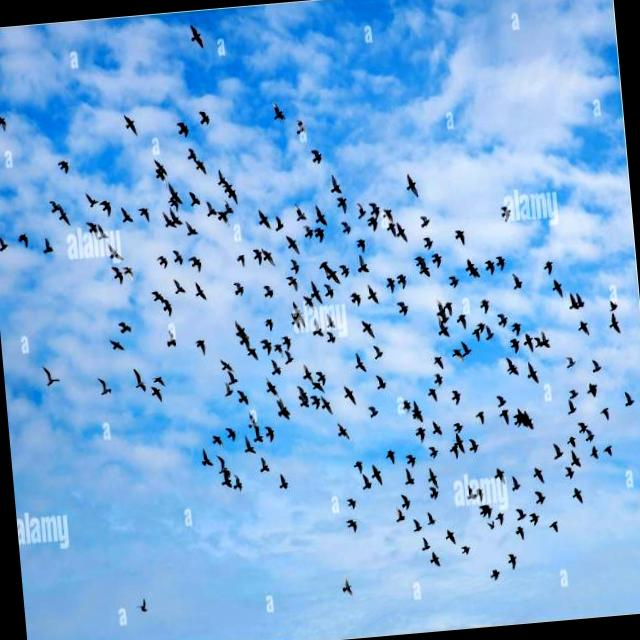bird: (185, 15, 209, 50), (402, 167, 422, 198), (462, 254, 484, 280), (42, 362, 61, 390), (128, 366, 147, 394), (192, 333, 210, 359), (122, 110, 138, 138), (94, 374, 112, 398), (338, 574, 356, 598), (451, 227, 469, 250), (164, 329, 181, 353), (106, 243, 125, 264), (38, 236, 56, 258), (312, 203, 328, 226), (342, 383, 358, 406), (526, 360, 540, 386), (174, 120, 192, 140), (255, 206, 270, 230), (262, 378, 280, 398), (360, 320, 378, 340), (14, 230, 31, 251), (121, 262, 137, 284), (308, 145, 324, 167), (220, 381, 236, 403), (272, 99, 286, 124), (353, 351, 368, 374), (282, 273, 300, 292), (82, 190, 99, 210), (170, 276, 187, 296), (193, 282, 210, 302), (292, 202, 308, 223), (198, 447, 214, 468), (395, 219, 409, 243), (425, 464, 439, 488), (430, 418, 444, 442), (576, 317, 592, 338), (352, 198, 367, 220), (563, 398, 580, 417), (294, 115, 308, 138), (607, 312, 621, 335), (188, 251, 204, 271), (156, 210, 172, 230), (284, 234, 300, 254), (240, 436, 256, 456), (382, 276, 398, 296), (510, 272, 526, 292), (106, 338, 127, 353), (168, 206, 183, 227), (336, 194, 351, 215), (356, 253, 371, 274), (347, 288, 362, 309), (324, 329, 339, 350), (328, 172, 342, 194), (251, 426, 265, 448), (368, 400, 382, 422), (216, 210, 230, 232), (454, 310, 468, 332), (522, 332, 536, 354), (152, 370, 168, 389), (134, 597, 150, 616), (478, 295, 494, 314), (409, 400, 424, 420), (370, 462, 382, 487), (552, 439, 565, 462), (110, 265, 124, 286), (149, 385, 163, 406), (276, 471, 290, 492), (98, 198, 114, 216), (168, 180, 184, 198), (310, 278, 322, 302), (335, 422, 351, 440), (434, 322, 450, 340), (546, 518, 562, 536), (119, 206, 132, 228), (310, 317, 323, 339), (433, 299, 446, 321), (257, 456, 272, 475), (395, 299, 410, 318), (399, 492, 414, 511), (84, 219, 98, 239), (231, 279, 245, 299), (260, 246, 274, 266), (272, 212, 286, 232), (231, 474, 245, 494), (258, 336, 272, 356), (276, 400, 290, 420), (375, 374, 389, 394), (428, 550, 442, 570), (550, 278, 564, 298), (564, 352, 578, 372), (570, 485, 584, 505), (534, 488, 548, 508), (623, 388, 636, 409), (231, 318, 247, 335), (226, 368, 242, 385), (491, 465, 506, 483), (186, 219, 200, 238), (322, 283, 336, 302), (384, 220, 398, 239), (569, 448, 583, 467), (162, 298, 174, 320), (264, 421, 276, 443), (396, 269, 408, 291), (508, 549, 520, 571), (302, 223, 315, 243), (359, 472, 372, 492), (150, 286, 164, 304), (199, 108, 211, 129), (314, 226, 326, 247), (262, 282, 276, 300), (215, 456, 229, 474), (345, 514, 359, 532), (326, 264, 340, 282), (370, 344, 384, 362), (431, 352, 445, 370), (450, 346, 464, 364), (460, 340, 472, 361), (496, 308, 508, 329), (497, 408, 511, 426), (488, 564, 502, 582), (568, 289, 578, 314), (414, 425, 427, 444), (598, 404, 611, 423), (46, 198, 61, 214), (238, 334, 253, 350), (219, 356, 235, 371), (368, 284, 380, 304), (349, 460, 365, 475), (404, 468, 416, 488), (394, 506, 406, 526), (409, 518, 424, 534), (425, 510, 437, 530), (500, 204, 512, 224), (194, 160, 208, 177), (223, 200, 237, 217), (417, 213, 431, 230), (530, 467, 544, 484), (215, 167, 228, 185), (338, 218, 351, 236), (368, 198, 381, 216), (382, 204, 395, 222), (426, 485, 439, 503), (540, 329, 550, 352), (524, 405, 534, 428), (172, 247, 184, 266), (250, 247, 262, 266), (320, 395, 332, 414), (484, 256, 496, 275), (57, 158, 71, 174), (244, 412, 258, 428), (280, 333, 294, 349), (324, 313, 338, 329), (156, 253, 169, 270), (237, 388, 250, 405), (367, 215, 380, 232), (221, 470, 232, 490), (385, 444, 396, 464), (58, 206, 70, 224), (97, 222, 109, 240), (234, 250, 246, 268), (356, 236, 368, 254), (405, 452, 417, 470), (445, 528, 457, 546), (509, 336, 521, 354), (542, 258, 554, 276), (576, 292, 588, 310), (586, 380, 598, 398), (602, 443, 614, 461), (562, 464, 574, 482), (454, 432, 464, 453), (496, 254, 507, 273), (588, 444, 599, 463), (511, 473, 522, 492), (154, 156, 167, 172), (459, 542, 472, 558), (495, 391, 508, 407), (0, 230, 9, 253), (138, 205, 150, 222), (153, 168, 165, 185), (270, 359, 282, 376), (300, 364, 312, 381), (310, 393, 322, 410), (590, 357, 602, 374), (189, 191, 200, 209), (346, 492, 357, 510), (485, 324, 496, 342), (451, 388, 462, 406), (118, 320, 132, 334), (513, 524, 527, 538), (451, 419, 464, 434), (565, 433, 578, 448), (228, 188, 240, 204), (302, 294, 314, 310), (316, 369, 328, 385), (339, 262, 351, 278), (422, 235, 434, 251), (431, 252, 443, 268), (427, 444, 439, 460), (584, 428, 596, 444), (514, 504, 526, 520), (0, 114, 10, 133), (533, 333, 543, 352), (206, 200, 217, 217), (289, 257, 300, 274), (529, 510, 540, 527), (310, 380, 324, 393), (473, 484, 486, 498), (186, 144, 196, 162), (289, 314, 299, 332), (294, 302, 304, 320), (419, 265, 431, 280), (434, 373, 446, 388), (444, 299, 454, 317), (470, 326, 480, 344), (469, 436, 479, 454), (466, 486, 476, 504), (249, 348, 260, 364), (226, 425, 237, 441), (212, 432, 223, 448), (273, 340, 284, 356), (402, 398, 412, 415), (420, 534, 430, 551), (448, 274, 460, 288), (474, 409, 486, 423), (446, 443, 458, 457), (607, 298, 619, 312), (284, 351, 295, 366), (427, 386, 437, 402), (486, 517, 496, 533), (167, 198, 180, 210), (264, 317, 276, 330), (413, 255, 426, 267), (508, 366, 520, 379), (317, 258, 328, 272), (512, 320, 523, 334), (576, 419, 587, 433), (221, 178, 231, 193), (476, 503, 486, 518), (566, 388, 580, 398), (496, 510, 506, 524), (485, 502, 493, 519), (506, 355, 514, 370), (477, 320, 486, 332)
